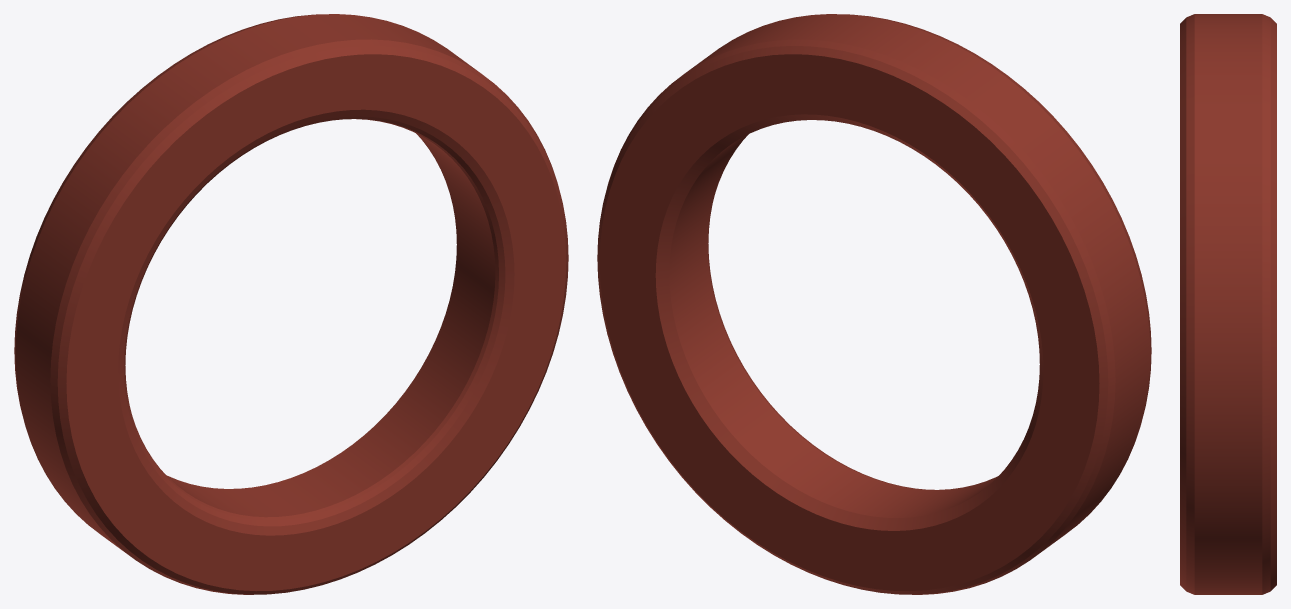
The model's file is supersimple-circle-red.glb.
3 renders of one model, left to right at view 1: azimuth 30°, elevation 25°; view 2: azimuth 150°, elevation 25°; view 3: azimuth 270°, elevation 25°, orthographic. The views are drawn at different scales.
Visible parts, largest first — view 1: Simple Ring_0; view 2: Simple Ring_0; view 3: Simple Ring_0.
Boxes of the visible parts, x1,y1,x2,y2 form: Simple Ring_0: (14, 14, 568, 594); Simple Ring_0: (597, 14, 1151, 594); Simple Ring_0: (1180, 14, 1276, 594).
Bounding box in the file's own units: 0.24 × 0.2399 × 0.04.
